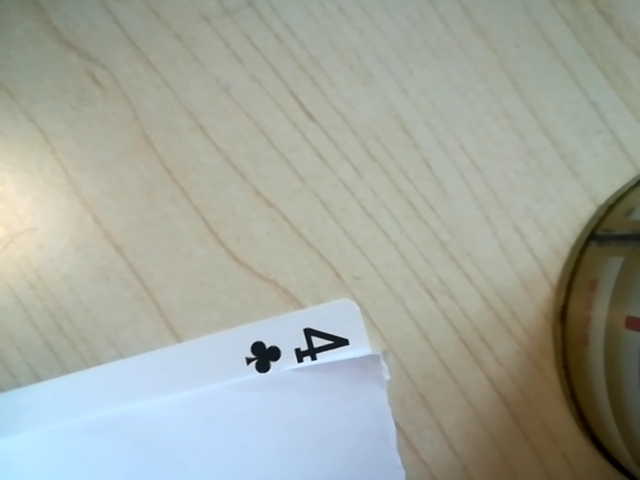mh 4: (225, 319, 367, 385)
